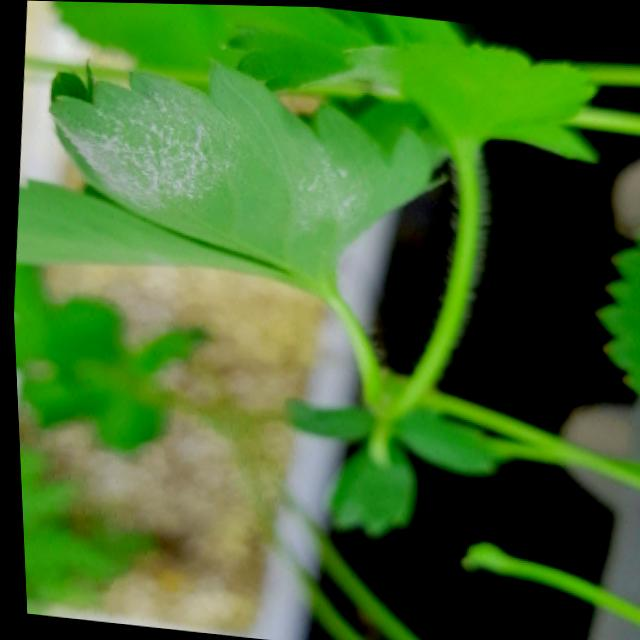Powdery Mildew Leaf: (45, 58, 449, 295)
